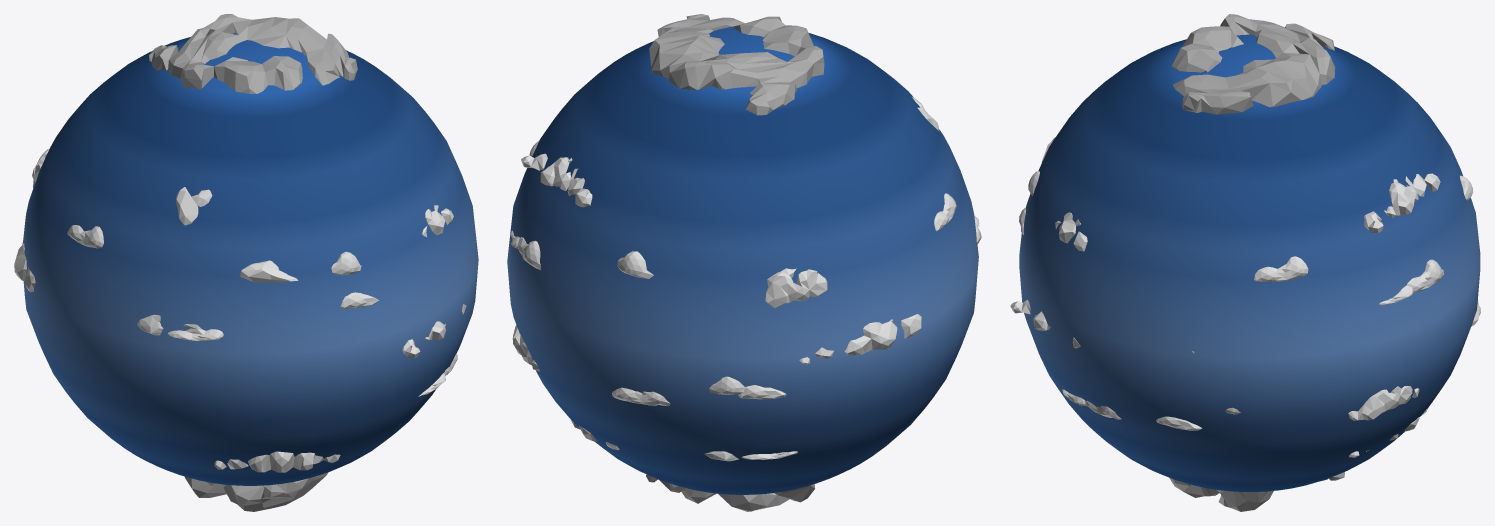
Rendered from hothSky.fbx.
3 views of the same model, side by side, from view 1: azimuth 30°, elevation 25°; view 2: azimuth 150°, elevation 25°; view 3: azimuth 270°, elevation 25° (orthographic). The views are drawn at different scales.
Parts seen in each view (by area): view 1: hoth_sky, cloud18, clouds2, cloud17; view 2: hoth_sky, cloud18, clouds2, cloud17; view 3: hoth_sky, cloud18, clouds2, cloud17.
Part boxes in pixels (x1,y1,x2,y2): hoth_sky: (22,32,478,485); cloud18: (149,14,357,93); clouds2: (14,149,466,472); cloud17: (184,472,327,511); hoth_sky: (507,26,978,494); cloud18: (649,14,824,115); clouds2: (510,97,981,461); cloud17: (646,474,815,511); hoth_sky: (1019,34,1480,491); cloud18: (1171,14,1335,114); clouds2: (1010,137,1480,457); cloud17: (1169,472,1344,511).
Size of the model in its own units: 535 by 577 by 544.
